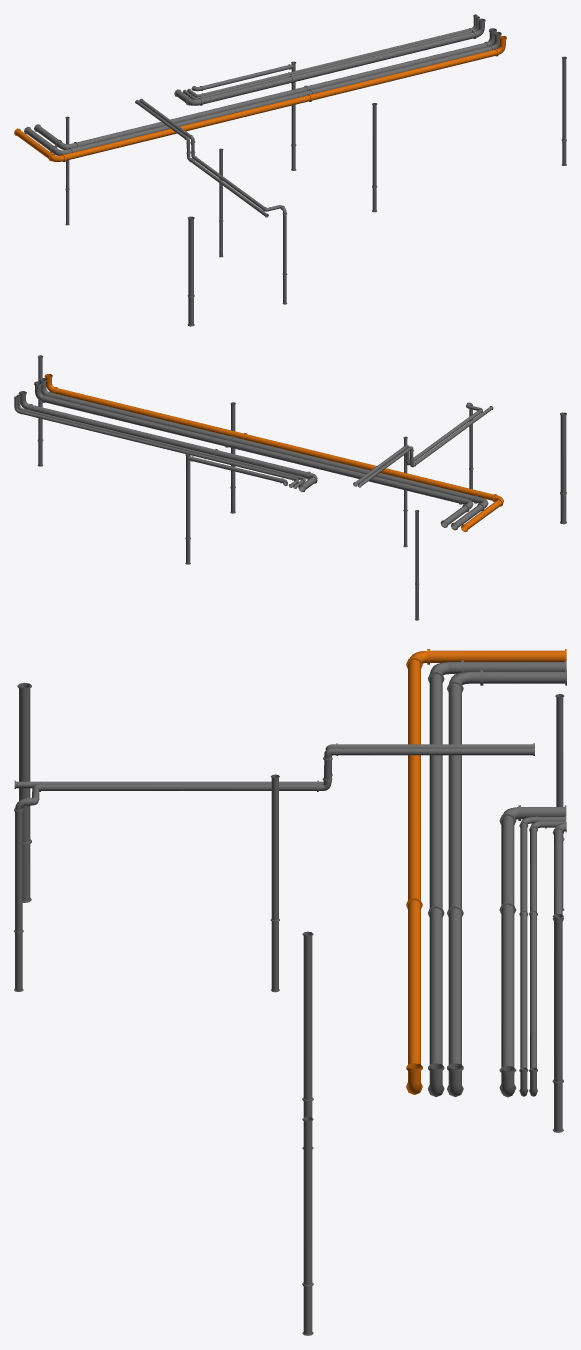
The model's file is SM_H_Building_Tide_Corridor_03B_ATLAS.fbx.
The picture shows the model from 3 angles, top to bottom: view 1: azimuth 30°, elevation 25°; view 2: azimuth 150°, elevation 25°; view 3: azimuth 270°, elevation 25°; orthographic projection. The views are drawn at different scales.
Visible parts, largest first — view 1: SM_H_Building_Tide_Corridor_03B_ATLAS; view 2: SM_H_Building_Tide_Corridor_03B_ATLAS; view 3: SM_H_Building_Tide_Corridor_03B_ATLAS.
Part boxes in pixels (x1,y1,x2,y2): SM_H_Building_Tide_Corridor_03B_ATLAS: (14, 14, 566, 326); SM_H_Building_Tide_Corridor_03B_ATLAS: (14, 355, 566, 620); SM_H_Building_Tide_Corridor_03B_ATLAS: (14, 649, 566, 1335).
Size of the model in its own units: 4860 by 2384 by 1108.
